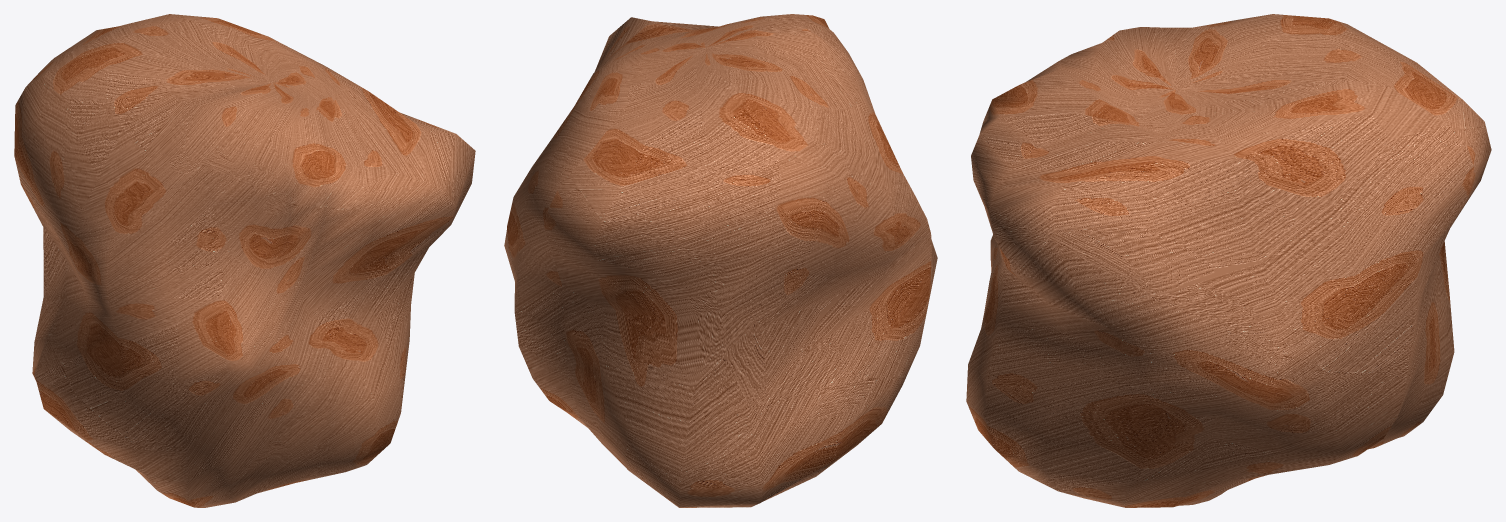
Rendered from meteo_05.obj.
3 renders of one model, left to right at view 1: azimuth 30°, elevation 25°; view 2: azimuth 150°, elevation 25°; view 3: azimuth 270°, elevation 25°, orthographic. The views are drawn at different scales.
Parts seen in each view (by area): view 1: pSphere1; view 2: pSphere1; view 3: pSphere1.
Boxes of the visible parts, box(x1,y1,x2,y2) form: pSphere1: box(14, 14, 475, 507); pSphere1: box(504, 14, 937, 507); pSphere1: box(966, 14, 1491, 507).
Bounding box in the file's own units: 1.83 × 2.04 × 2.17.
1 material, 1 textured.
